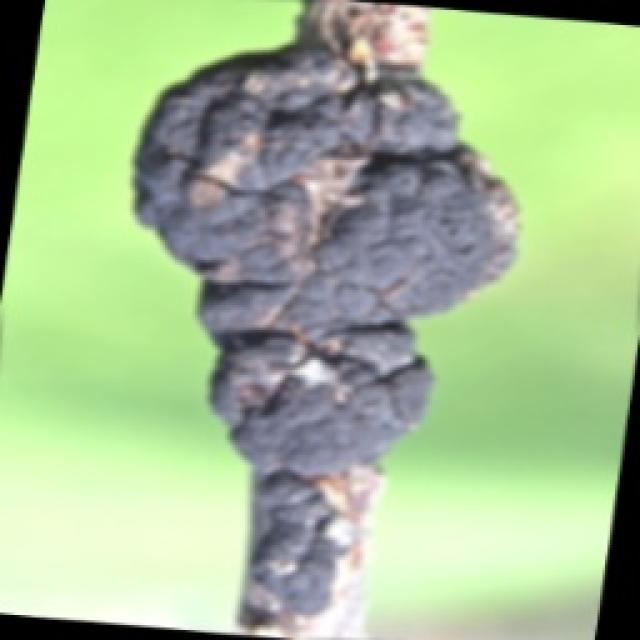Black_knot: (127, 0, 520, 632)
